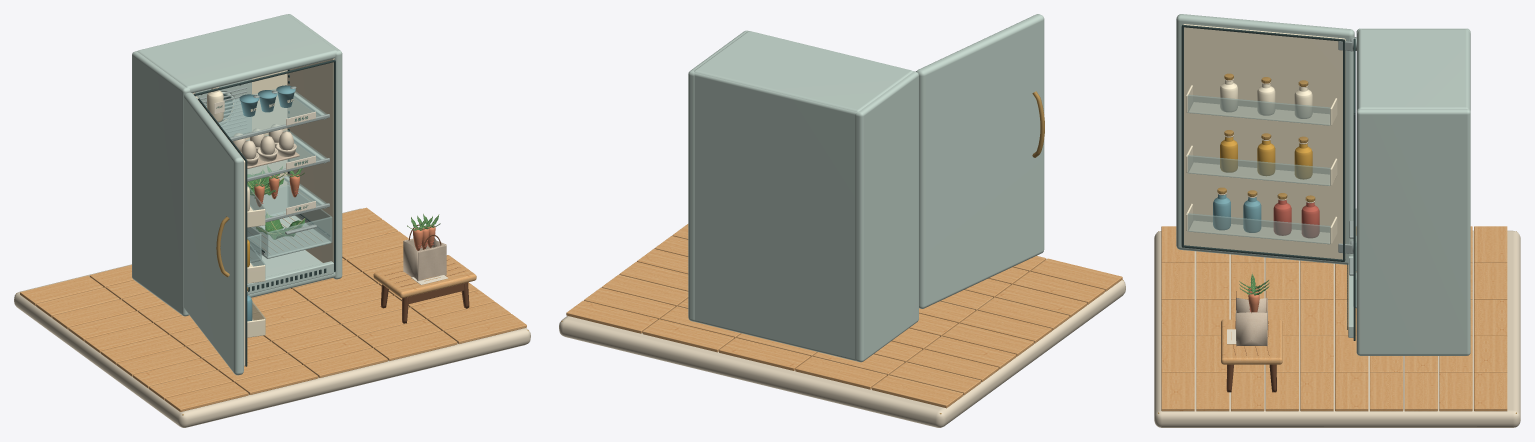
The model's file is pantry.glb.
3 renders of one model, left to right at view 1: azimuth 30°, elevation 25°; view 2: azimuth 150°, elevation 25°; view 3: azimuth 270°, elevation 25°, orthographic. The views are drawn at different scales.
Visible parts, largest first — view 1: Fridge sculpted door, Outer side casing, Foundation bevel, Body top or bottom.001, Inset liner side.001, Rear inner liner, Glass shelf.002, Solid oak tabletop, Outer side casing.001, Crisper front.001, Crisper bottom.001, Body top or bottom (+47 smaller); view 2: Rear refrigerator shell, Fridge sculpted door, Outer side casing, Foundation bevel, Body top or bottom.001, Outer side casing.001, Staggered oak board.045, Staggered oak board.048, Staggered oak board.049, Staggered oak board.046, Staggered oak board.047, Staggered oak board.010 (+19 smaller); view 3: Outer side casing.001, Door interior moulding, Foundation bevel, Body top or bottom.001, Fridge sculpted door, Door rack clear retaining wall, Door rack clear retaining wall.002, Door rack clear retaining wall.001, Solid oak tabletop, Staggered oak board.004, Staggered oak board.029, Staggered oak board.034 (+53 smaller).
Part boxes in pixels (bbox=[...]): Fridge sculpted door: bbox=[184, 92, 243, 375]; Outer side casing: bbox=[132, 51, 190, 316]; Foundation bevel: bbox=[14, 208, 530, 427]; Body top or bottom.001: bbox=[137, 14, 336, 93]; Inset liner side.001: bbox=[287, 58, 334, 262]; Rear inner liner: bbox=[222, 70, 287, 214]; Glass shelf.002: bbox=[206, 89, 326, 137]; Solid oak tabletop: bbox=[373, 255, 476, 298]; Outer side casing.001: bbox=[288, 14, 342, 279]; Crisper front.001: bbox=[267, 216, 332, 258]; Crisper bottom.001: bbox=[248, 211, 330, 258]; Body top or bottom: bbox=[248, 250, 335, 297]; Rear refrigerator shell: bbox=[693, 71, 859, 361]; Fridge sculpted door: bbox=[916, 14, 1044, 308]; Outer side casing: bbox=[855, 71, 918, 362]; Foundation bevel: bbox=[559, 280, 1125, 427]; Body top or bottom.001: bbox=[694, 31, 912, 111]; Outer side casing.001: bbox=[688, 30, 748, 321]; Staggered oak board.045: bbox=[871, 375, 963, 408]; Staggered oak board.048: bbox=[642, 319, 734, 352]; Staggered oak board.049: bbox=[566, 300, 657, 333]; Staggered oak board.046: bbox=[795, 356, 886, 389]; Staggered oak board.047: bbox=[719, 338, 810, 370]; Staggered oak board.010: bbox=[995, 284, 1087, 317]; Outer side casing.001: bbox=[1356, 108, 1470, 355]; Door interior moulding: bbox=[1183, 24, 1345, 259]; Foundation bevel: bbox=[1154, 230, 1520, 427]; Body top or bottom.001: bbox=[1357, 29, 1468, 108]; Fridge sculpted door: bbox=[1176, 14, 1354, 264]; Door rack clear retaining wall: bbox=[1187, 213, 1330, 244]; Door rack clear retaining wall.002: bbox=[1187, 94, 1330, 125]; Door rack clear retaining wall.001: bbox=[1187, 155, 1330, 185]; Solid oak tabletop: bbox=[1221, 319, 1282, 364]; Staggered oak board.004: bbox=[1161, 372, 1194, 411]; Staggered oak board.029: bbox=[1335, 372, 1368, 411]; Staggered oak board.034: bbox=[1370, 372, 1403, 411].
Bounding box in the file's own units: 9.2 × 6.25 × 7.7.
23 materials, 2 textured.
